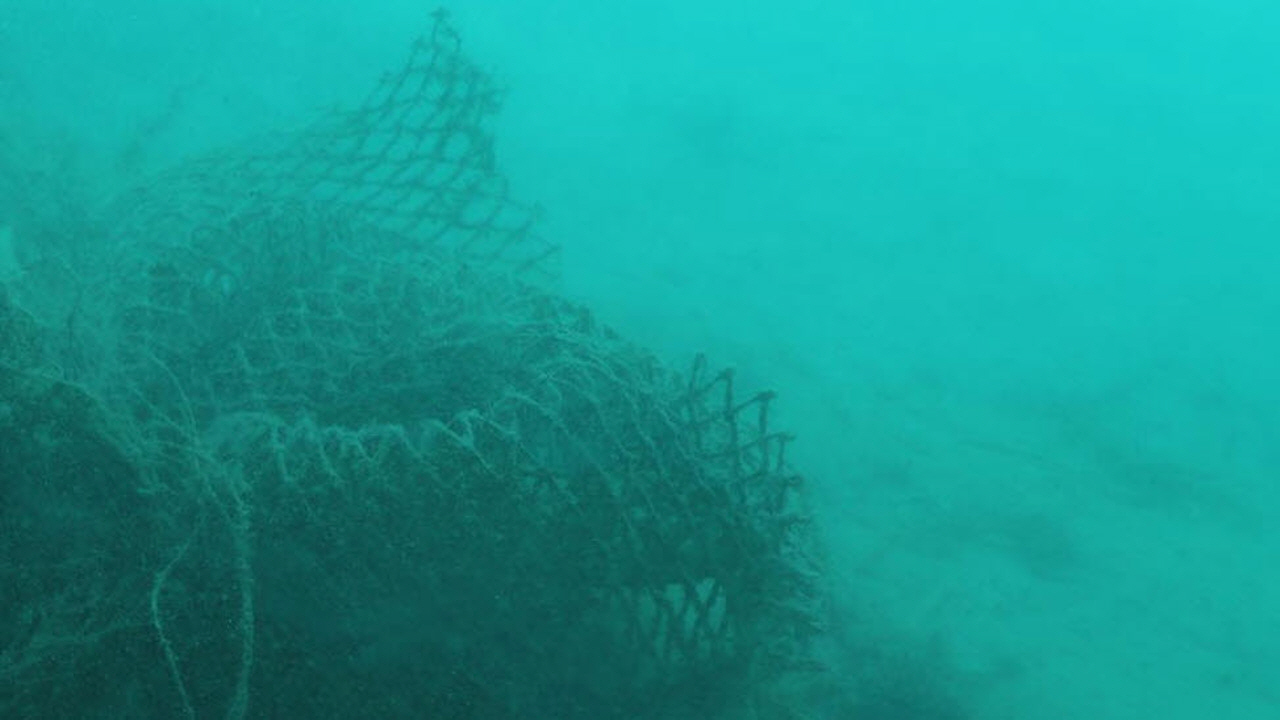fish net: (121, 17, 784, 719)
